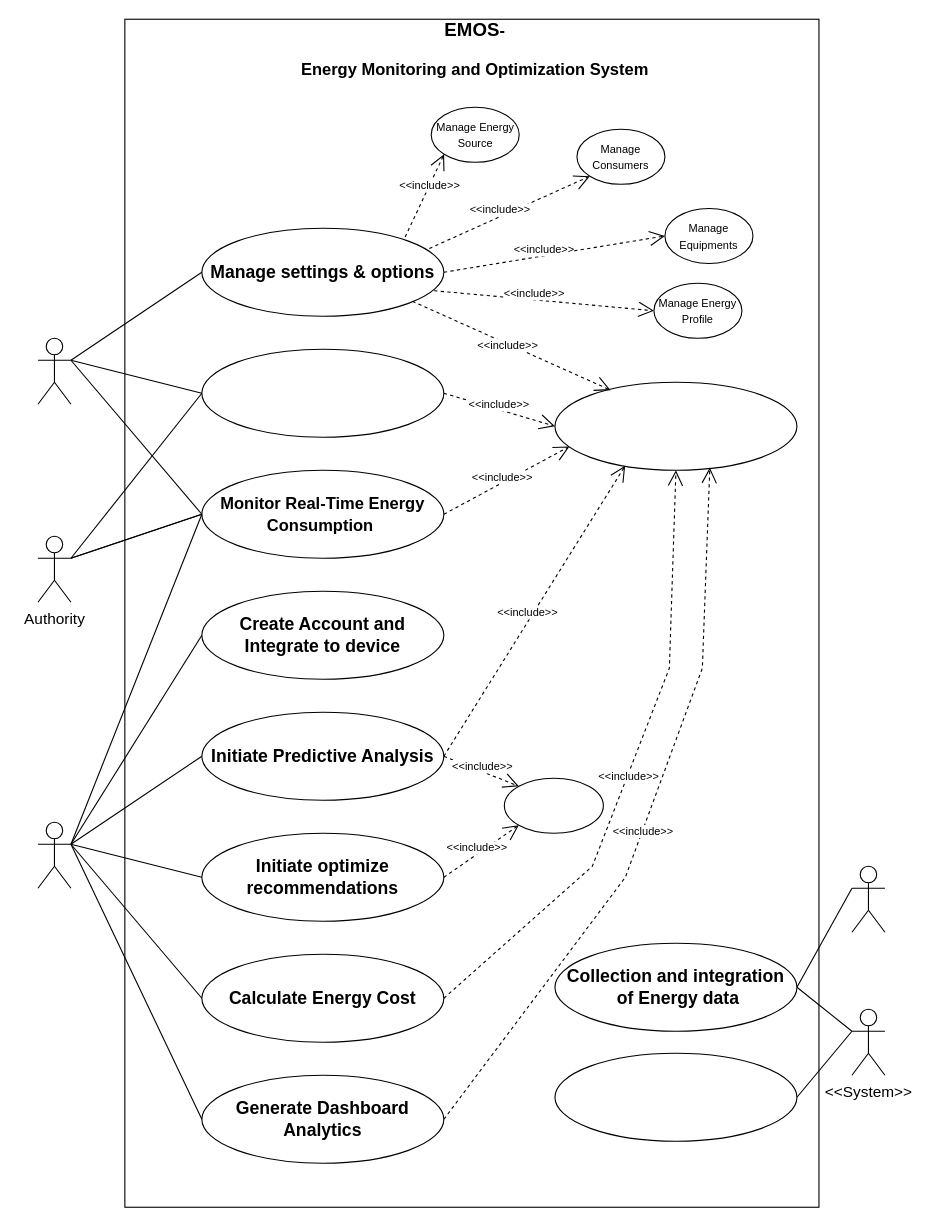
Image size: 931x1227. Some labels were removed from this diagram. The shapes that lost their labels are listed below. From the top down, each one's box as (x1, y1, x2, y2) in pixels, then its label:
(37, 337, 71, 404): System Admin
(201, 348, 444, 437): Manage Consumer Accounts
(554, 381, 797, 470): User Login
(503, 777, 603, 833): Engage ML Model
(37, 821, 71, 888): Consumer
(851, 865, 885, 932): <<Device>>
(554, 1052, 797, 1141): Process Real-time Data
